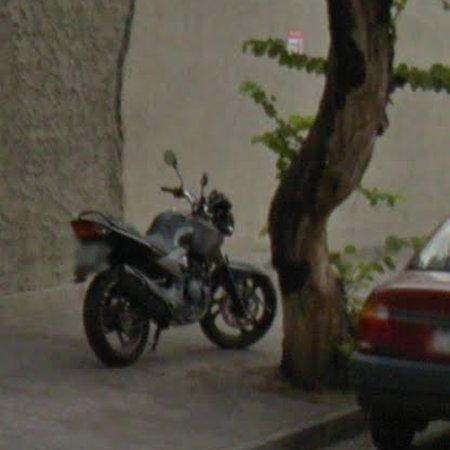motorcycles: (71, 152, 276, 366)
